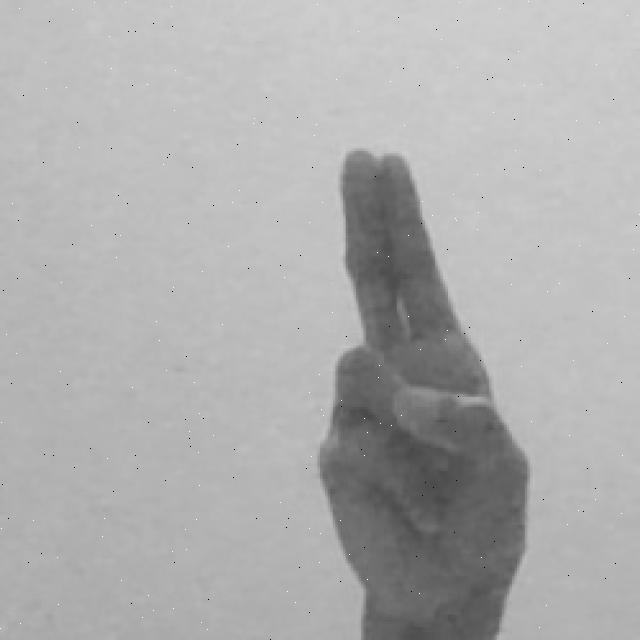U: (310, 141, 538, 640)
